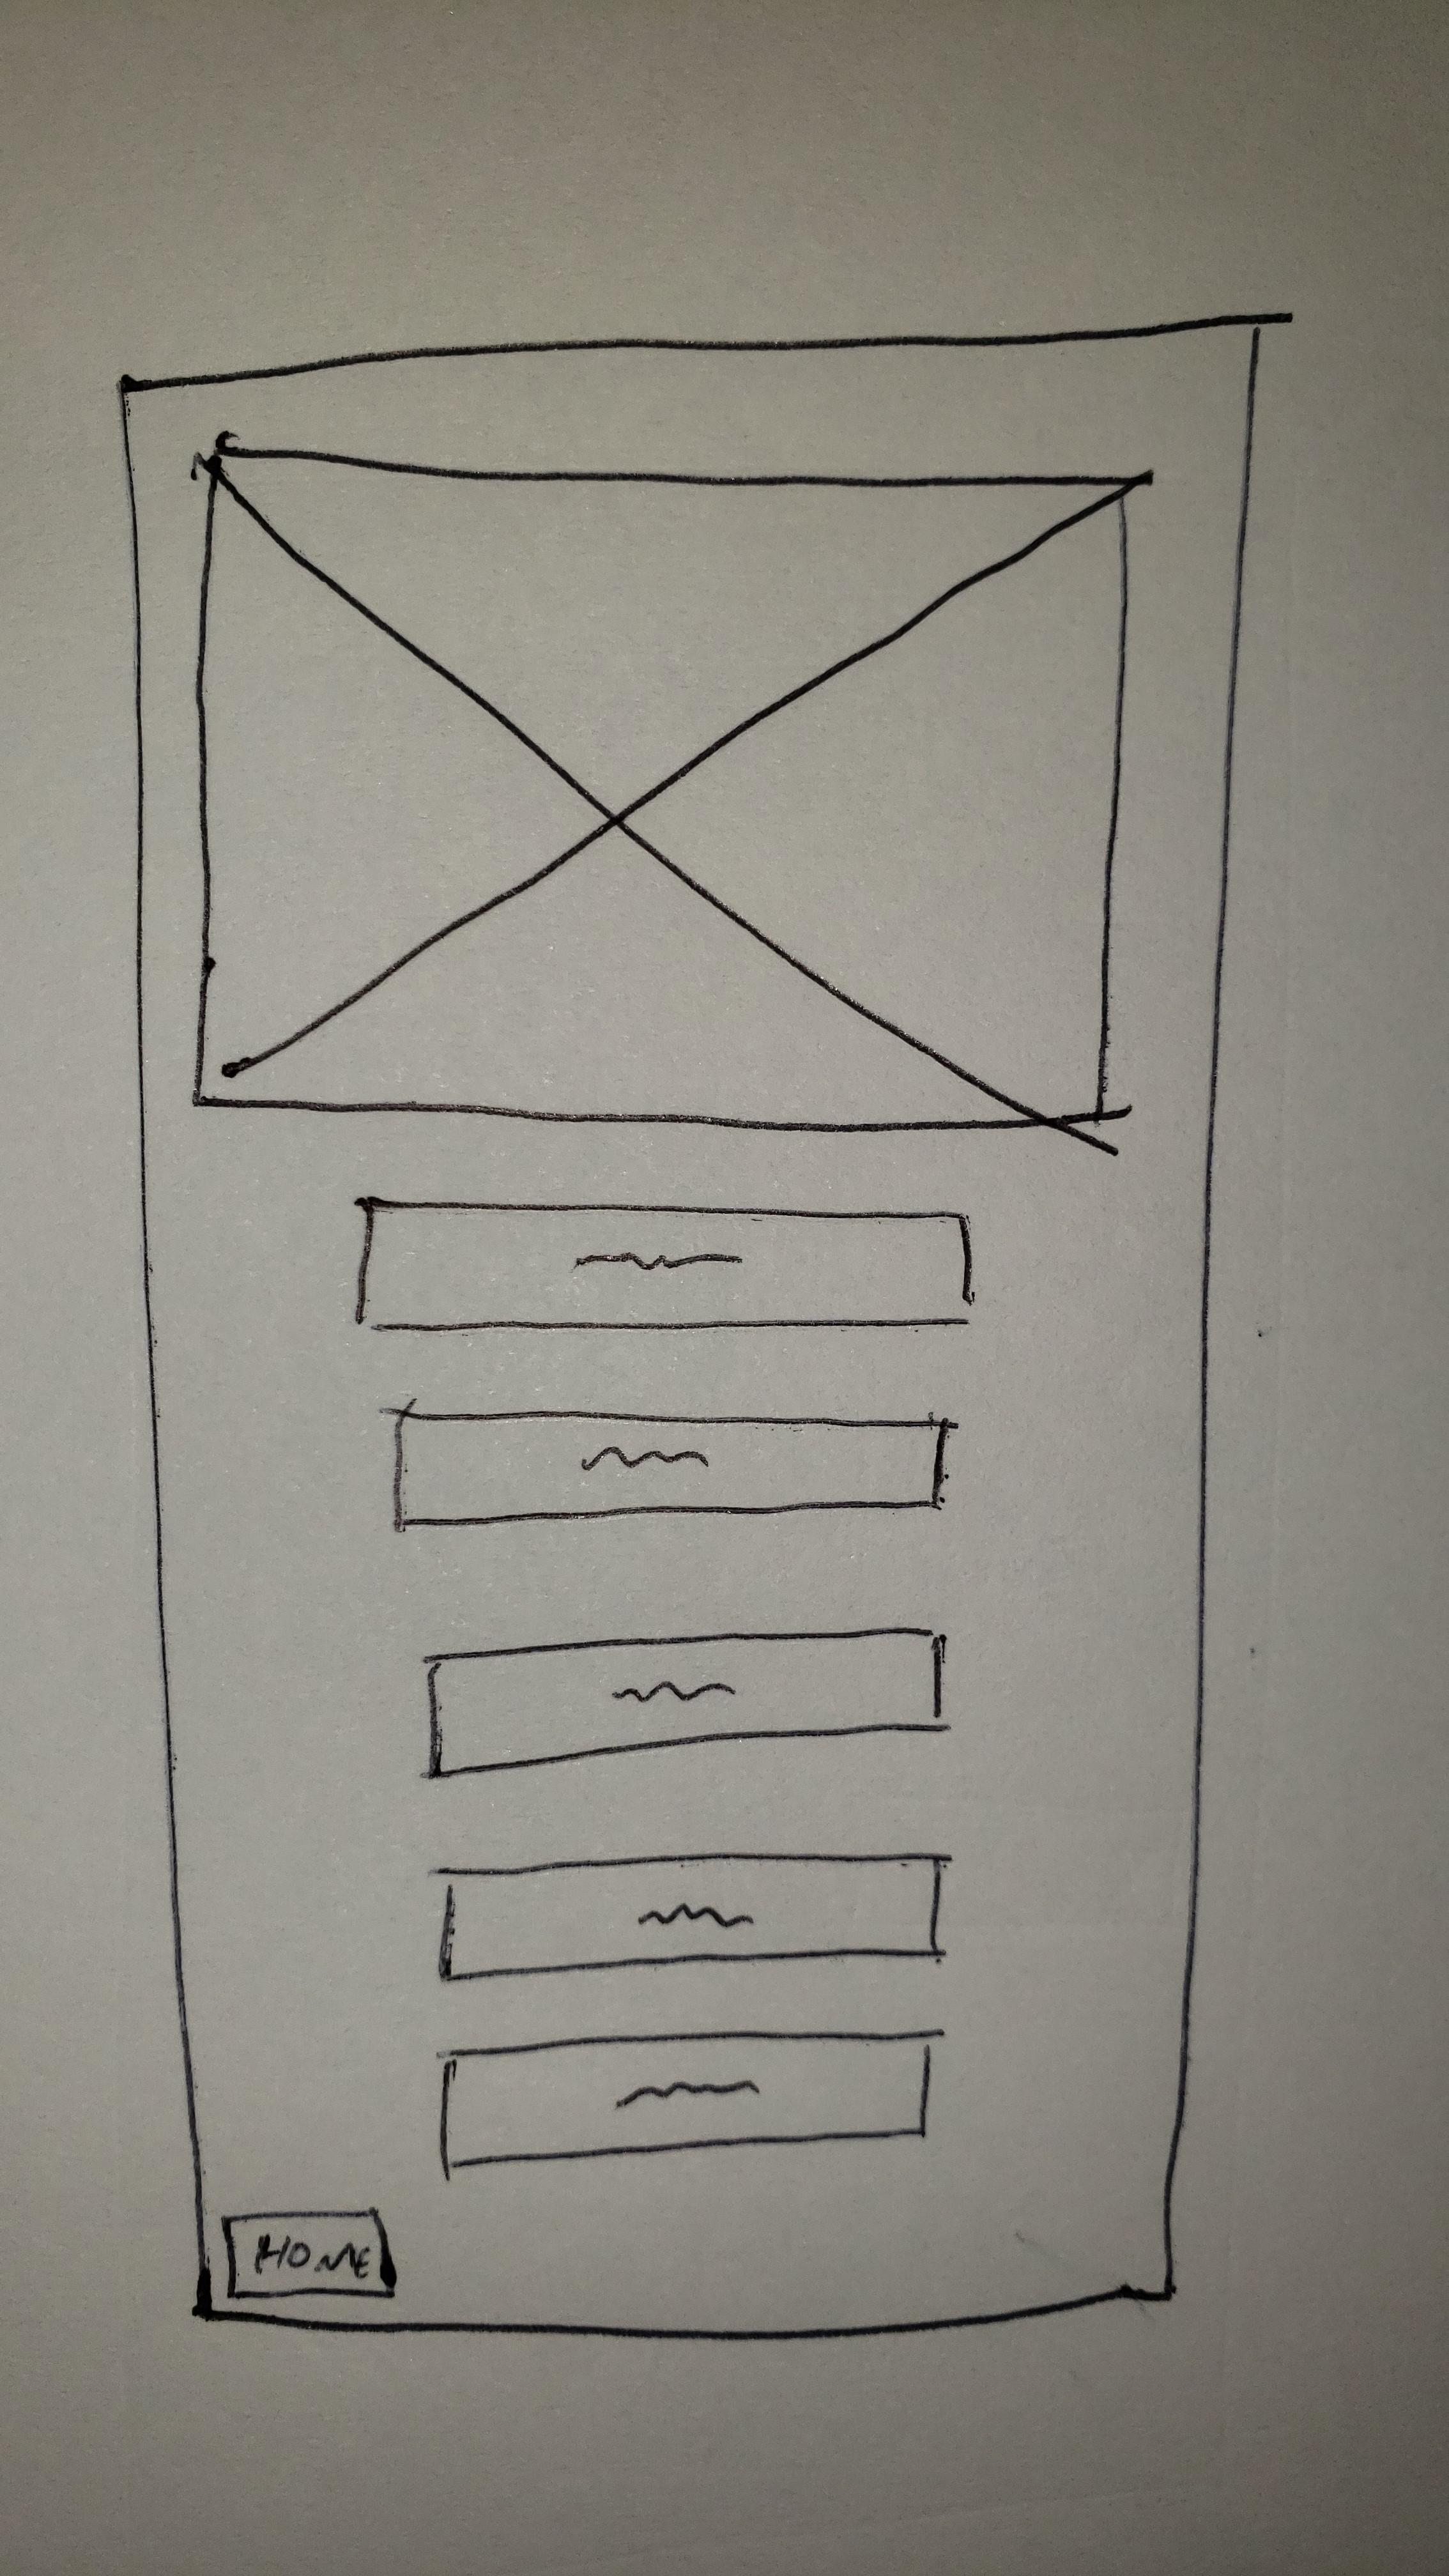Button: (352, 1200, 980, 1332), (421, 1628, 945, 1778), (437, 2029, 931, 2171), (391, 1408, 950, 1530), (439, 1854, 943, 1983), (221, 2210, 395, 2296)
Image: (193, 444, 1129, 1131)
Screen: (120, 318, 1254, 2337)
